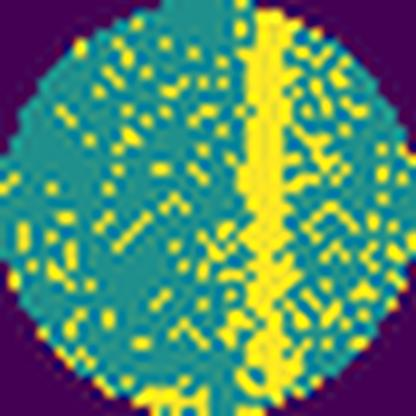Loc: (241, 10, 305, 407), (143, 381, 210, 416)
